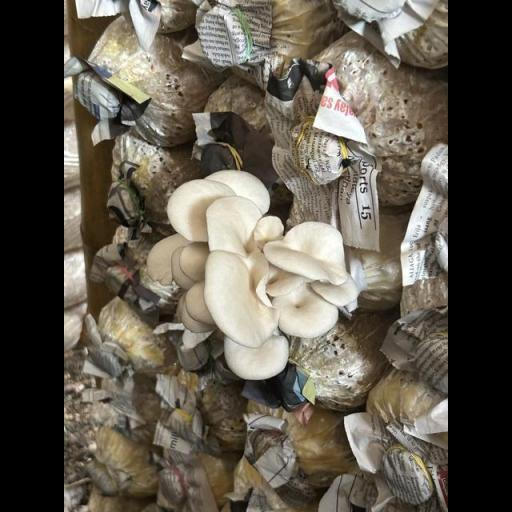White Oyster Mushroom: (125, 162, 380, 392)
